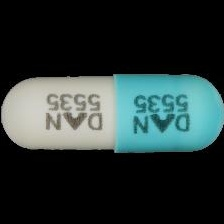54868-3169: (0, 0, 224, 224)
